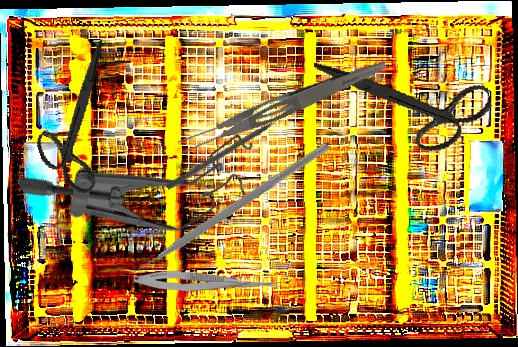Chopper: (117, 86, 330, 325)
Dressing Forceps: (176, 50, 389, 160)
Iris Scissors: (313, 24, 499, 174), (12, 39, 145, 203)
Micro Scissor: (133, 269, 286, 294)
Pusher: (165, 110, 293, 192)
Speculum: (14, 63, 275, 295)
